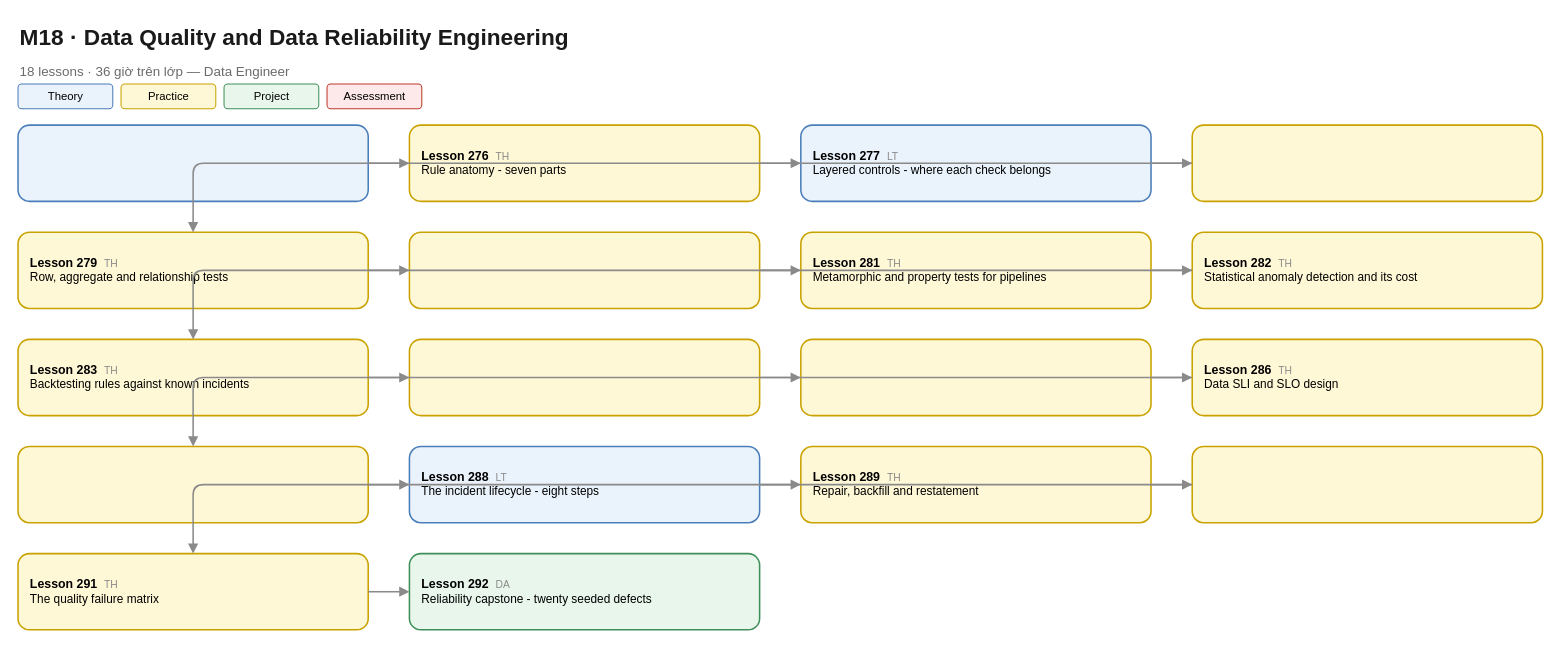
Some shapes in this 1561 by 648 pixel diagram are drawn without their labels. Here are the shapes that lost their labels. From the top down, the box of each, then its label:
(17, 124, 369, 202): Lesson 275 LT Quality dimensions defined operationally
(1191, 124, 1543, 202): Lesson 278 TH Schema and contract tests at the boundary
(408, 231, 760, 309): Lesson 280 TH Temporal tests - late, out of order and overlap
(408, 338, 760, 416): Lesson 284 TH The reconciliation ladder - seven levels
(800, 338, 1151, 416): Lesson 285 TH Normalization before comparison
(17, 445, 369, 523): Lesson 287 TH Low-noise alerting and the error budget
(1191, 445, 1543, 523): Lesson 290 TH False positives, coverage and quality debt
